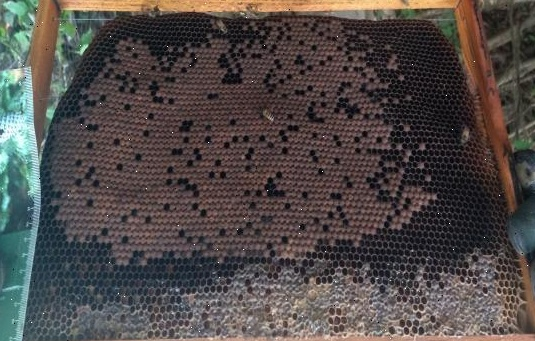cria: (41, 15, 438, 265)
